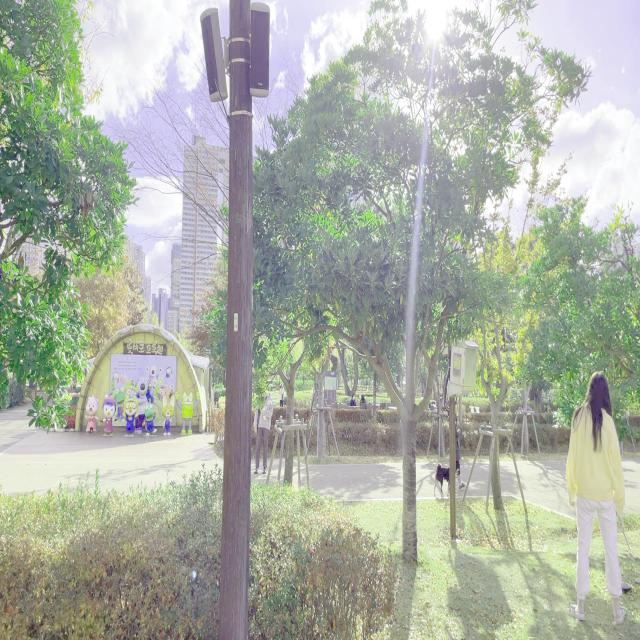Leashed_Dog: (434, 427, 466, 497)
